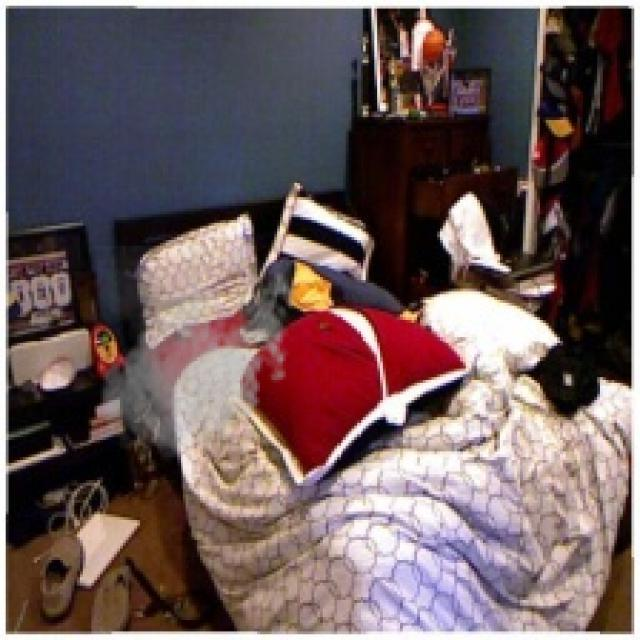Smoke: (94, 245, 300, 466)
